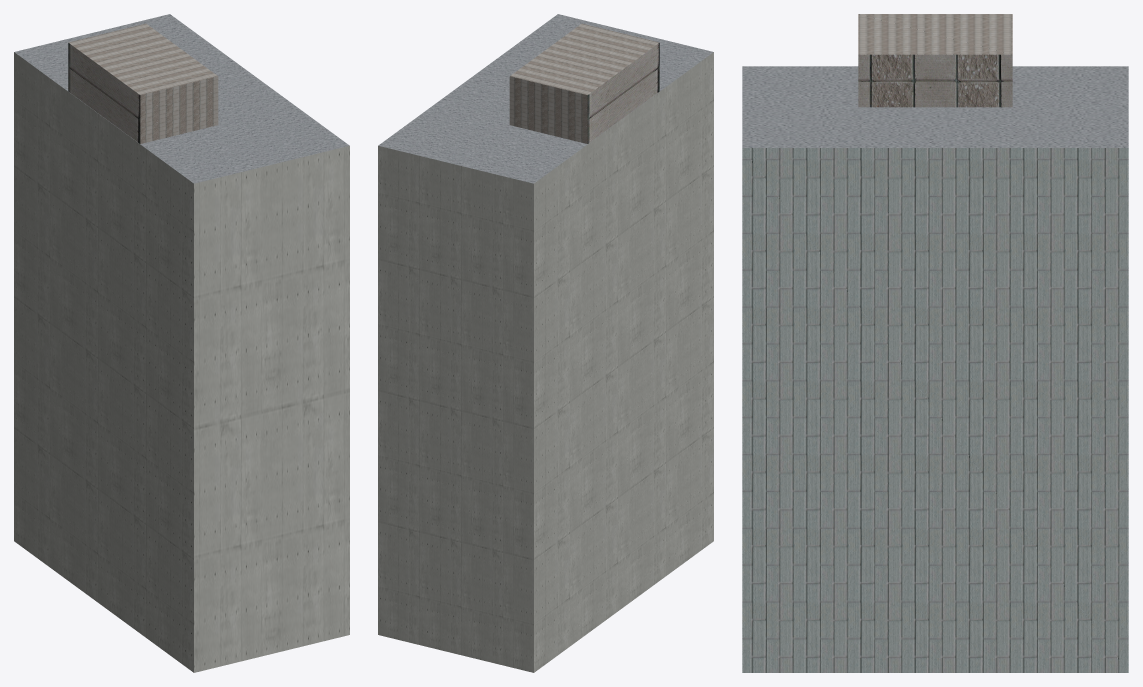
The model's file is Building_1.fbx.
3 views of the same model, side by side, from view 1: azimuth 30°, elevation 25°; view 2: azimuth 150°, elevation 25°; view 3: azimuth 270°, elevation 25° (orthographic). The views are drawn at different scales.
Parts seen in each view (by area): view 1: ビル1, オブジェクト; view 2: ビル1, オブジェクト; view 3: ビル1, オブジェクト.
Boxes of the visible parts, x1=… form: ビル1: x1=14, y1=14, x2=349, y2=672; オブジェクト: x1=68, y1=23, x2=218, y2=143; ビル1: x1=378, y1=14, x2=713, y2=672; オブジェクト: x1=509, y1=23, x2=659, y2=143; ビル1: x1=742, y1=66, x2=1128, y2=672; オブジェクト: x1=858, y1=14, x2=1012, y2=107.
Bounding box in the file's own units: 2000 × 6600 × 4000.
4 materials, 4 textured.
